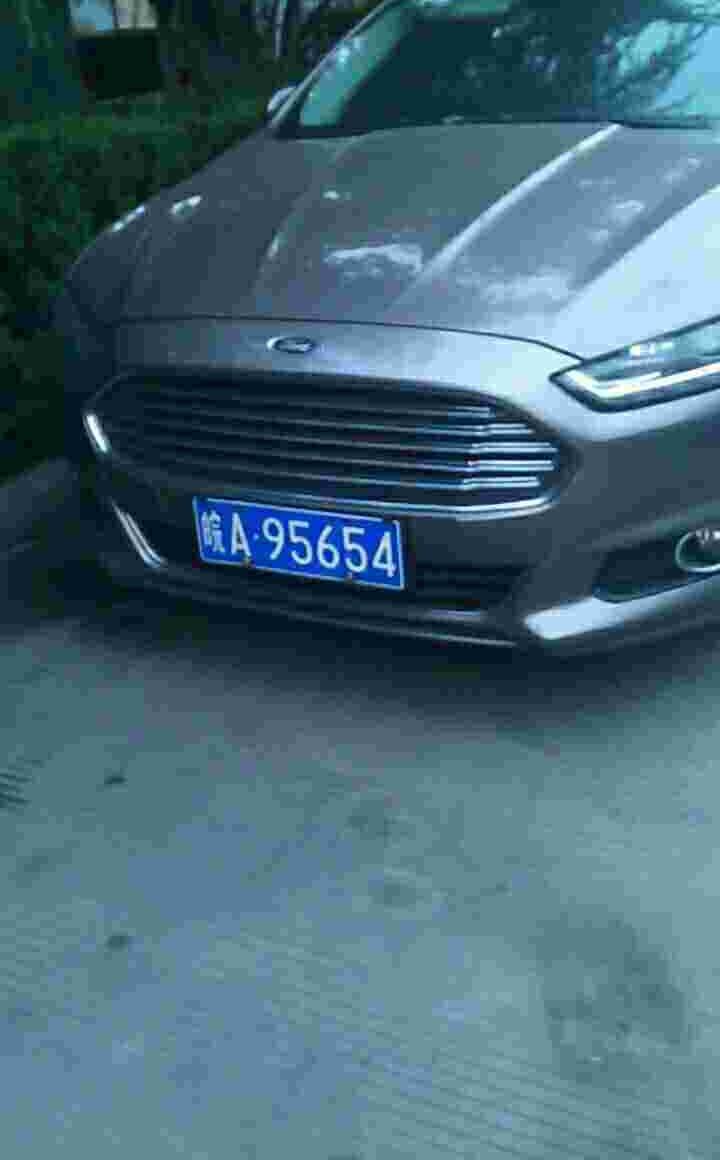plate: (192, 492, 409, 592)
